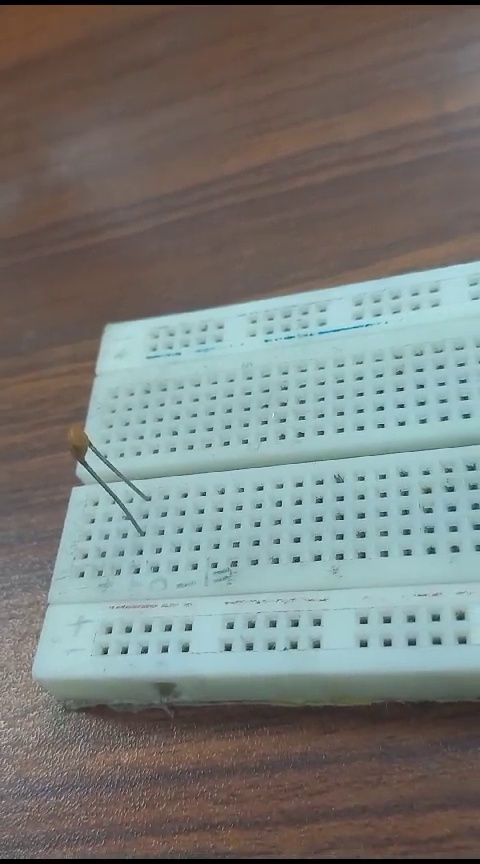ceramic capacitor: (48, 428, 150, 544)
